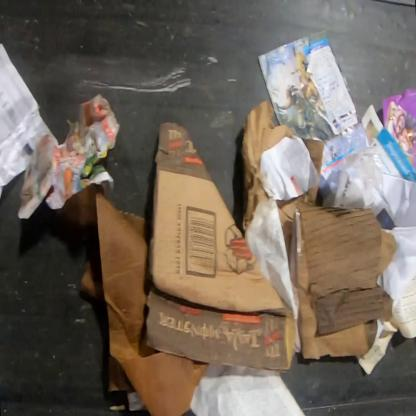cardboard: (145, 122, 294, 370), (61, 187, 209, 415), (289, 206, 396, 360), (241, 100, 298, 232), (276, 183, 319, 265), (302, 138, 325, 180)
soft_plastic: (332, 152, 385, 216)
